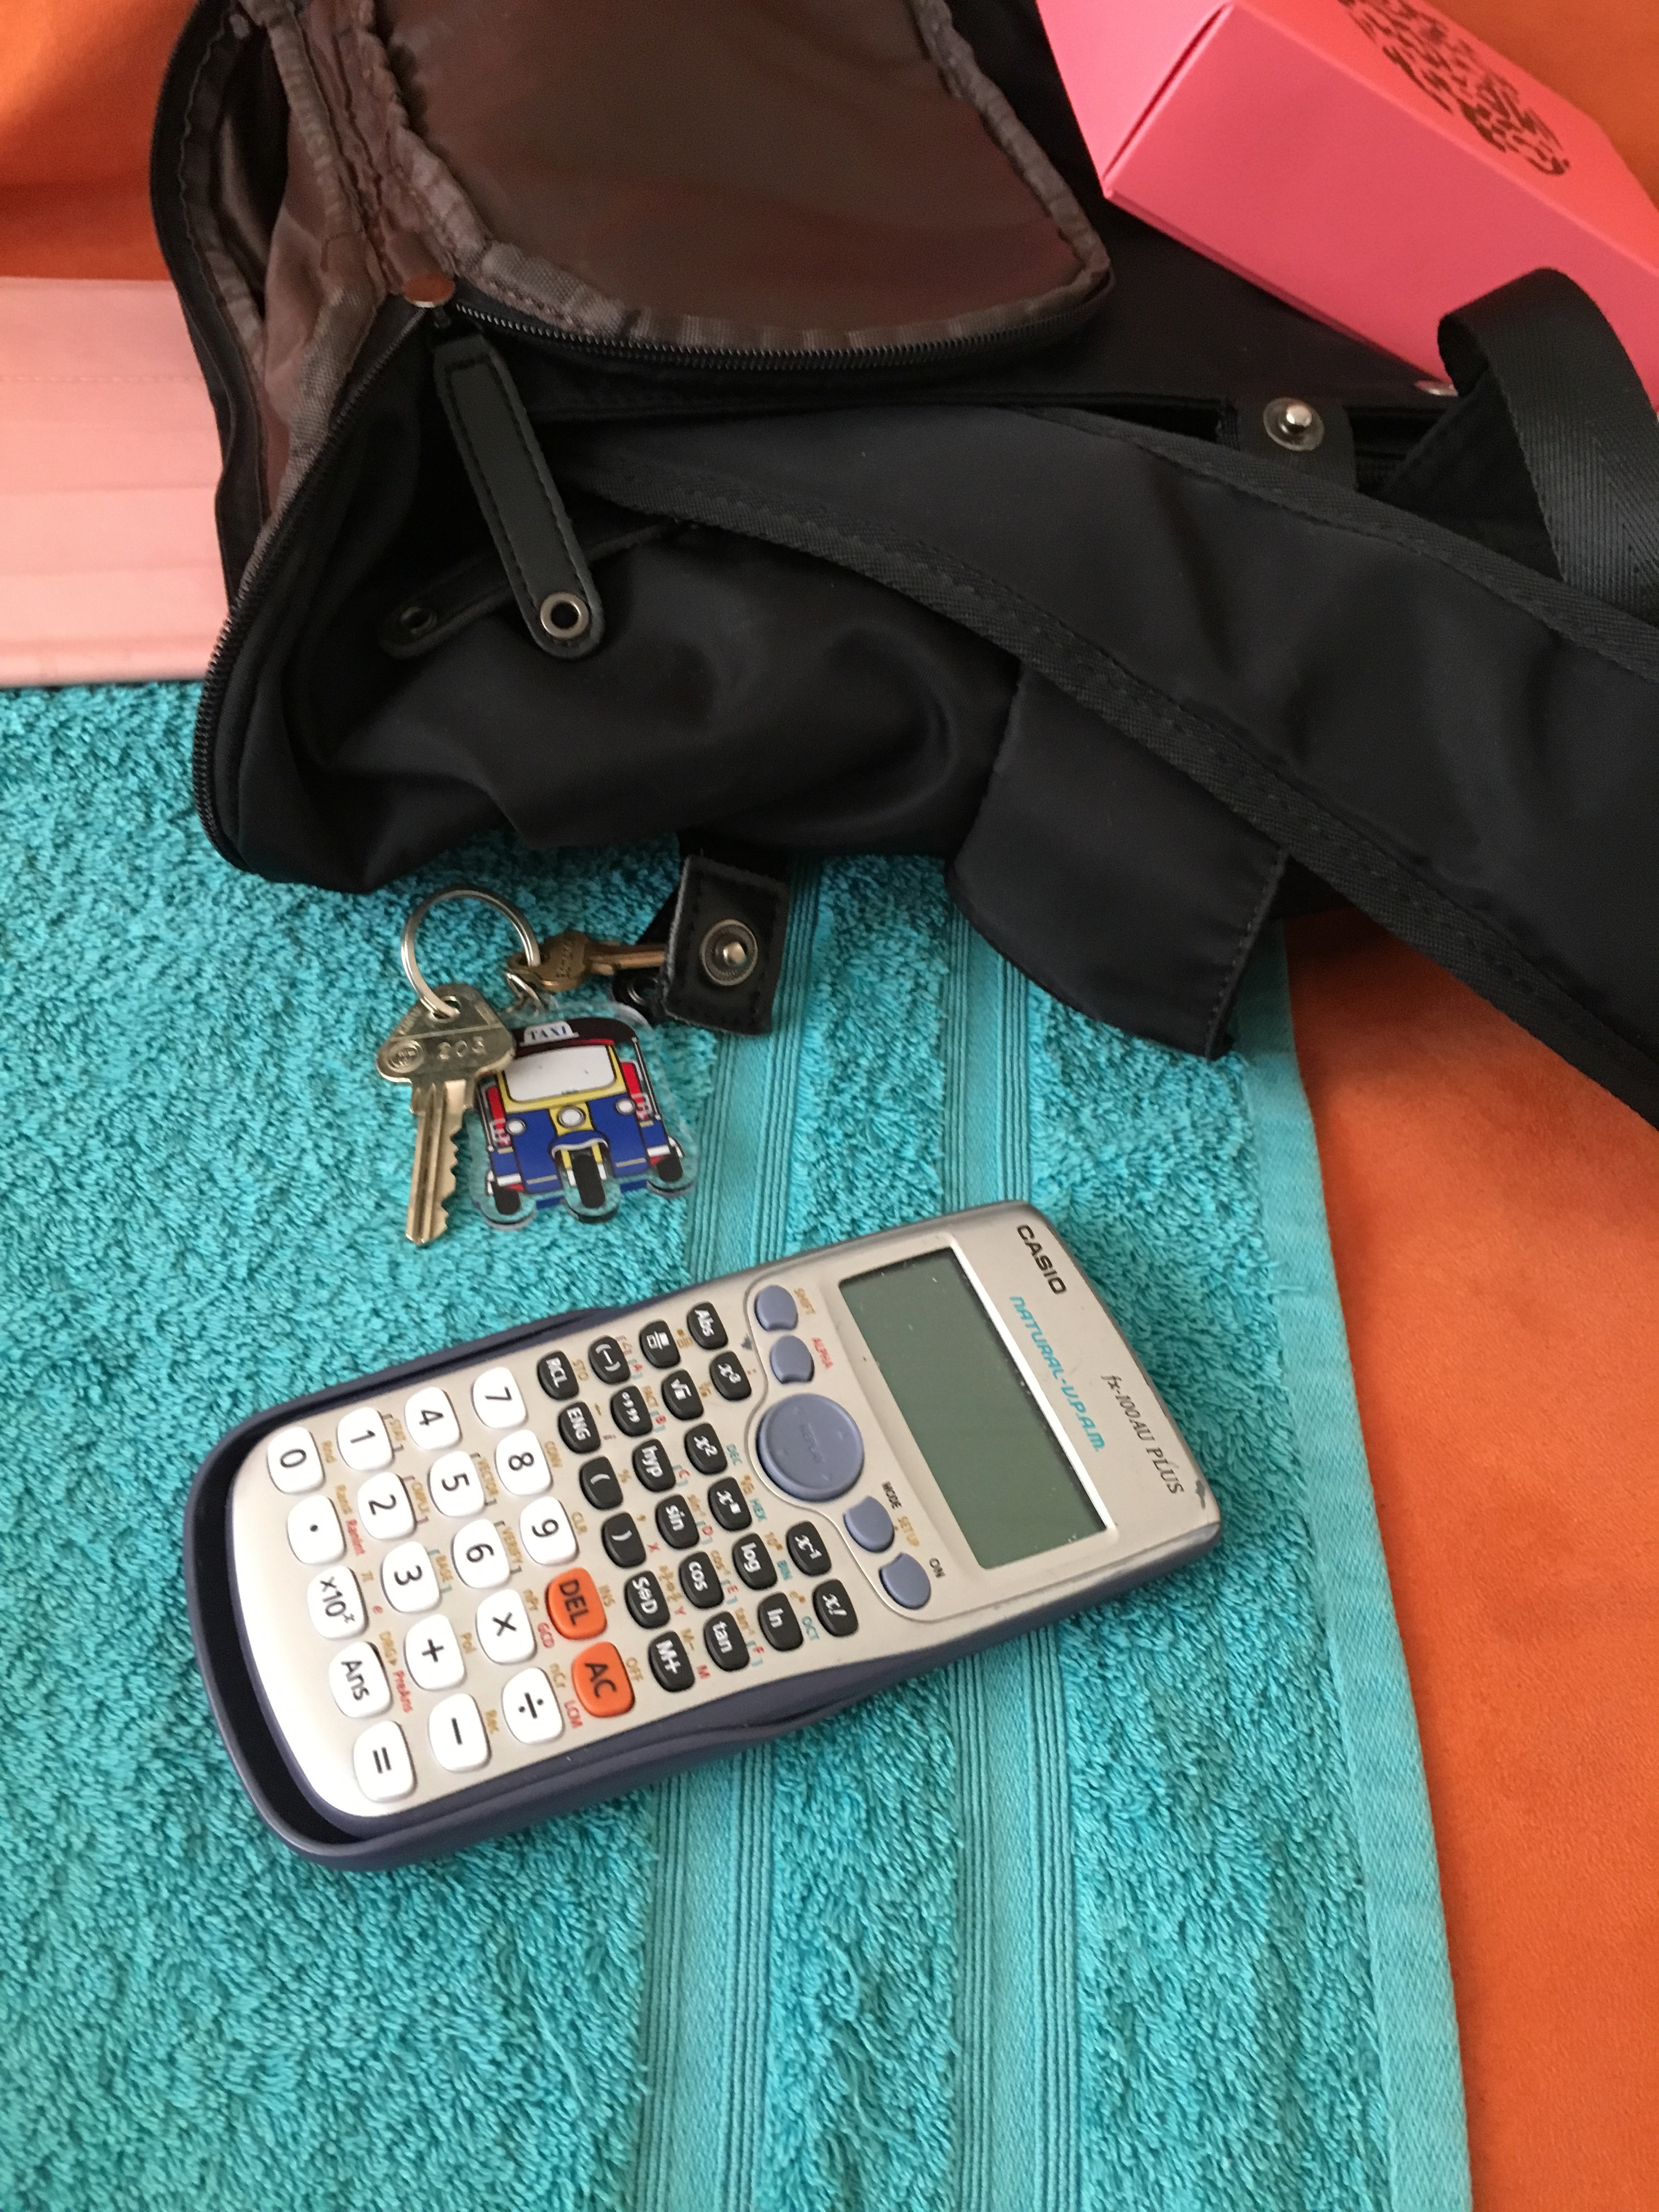Calculator: (162, 1193, 1262, 1897)
